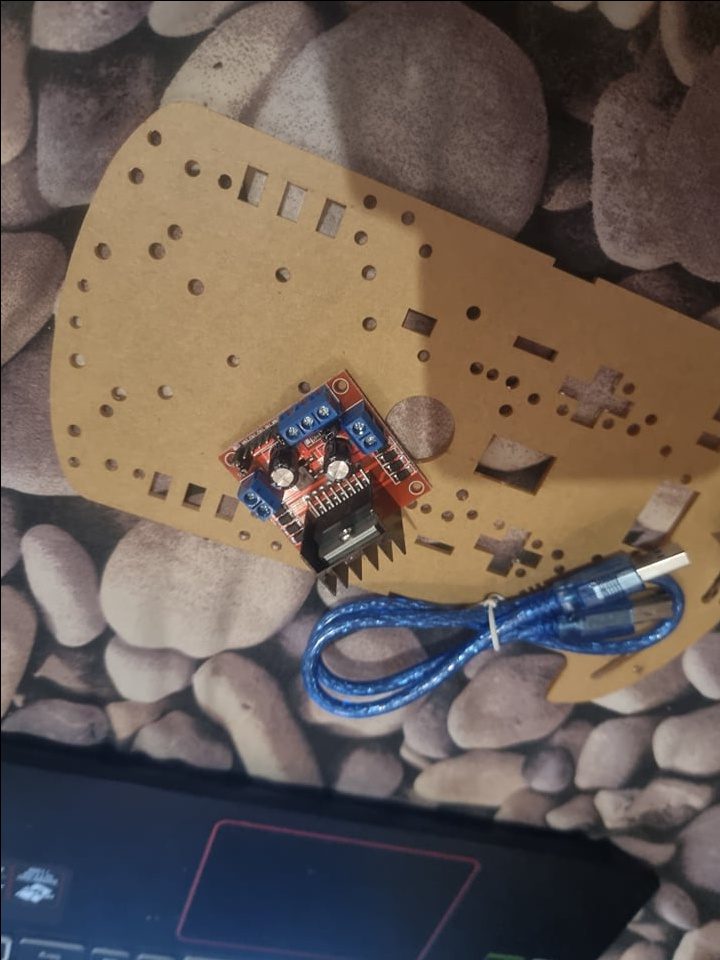MOTOR: (217, 365, 432, 592)
